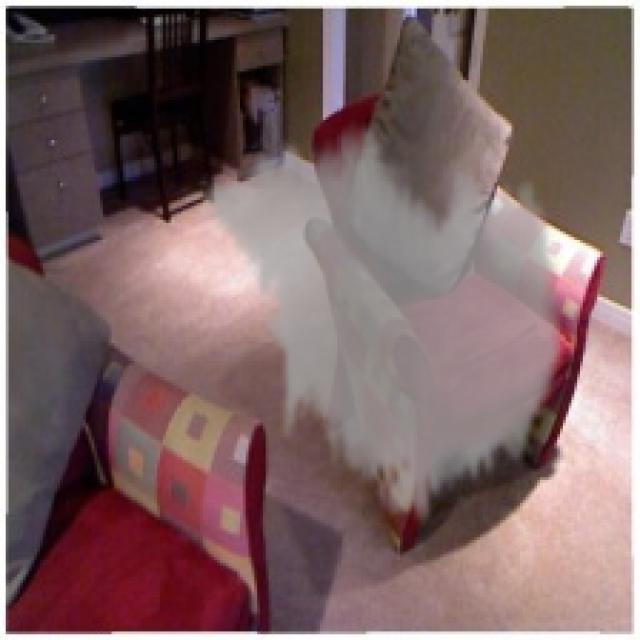Smoke: (200, 111, 569, 532)
